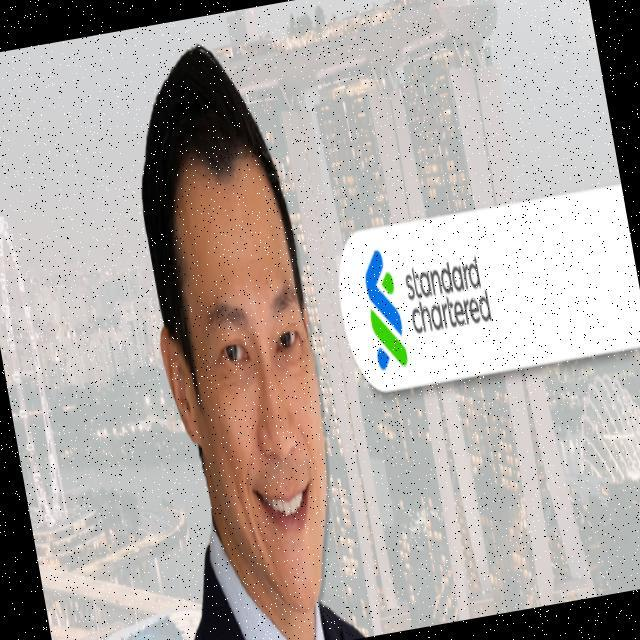Standard Chartered: (357, 230, 498, 371)
